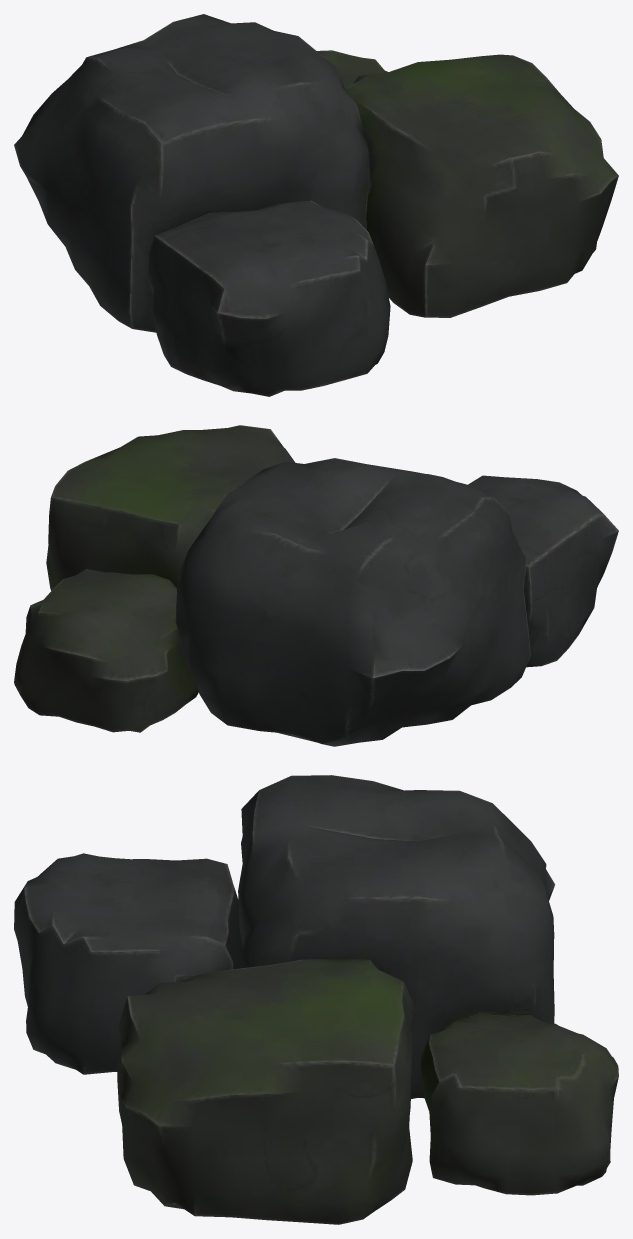
The model's file is rocks.glb.
The picture shows the model from 3 angles, top to bottom: view 1: azimuth 30°, elevation 25°; view 2: azimuth 150°, elevation 25°; view 3: azimuth 270°, elevation 25°; orthographic projection. The views are drawn at different scales.
Visible parts, largest first — view 1: rocks; view 2: rocks; view 3: rocks.
Boxes of the visible parts, left/top/right/bottom form: rocks: left=14, top=14, right=618, bottom=396; rocks: left=14, top=425, right=618, bottom=746; rocks: left=14, top=775, right=618, bottom=1224.
Size of the model in its own units: 0.8336 by 0.362 by 0.8398.
Materials: 1 (1 with a texture image).
